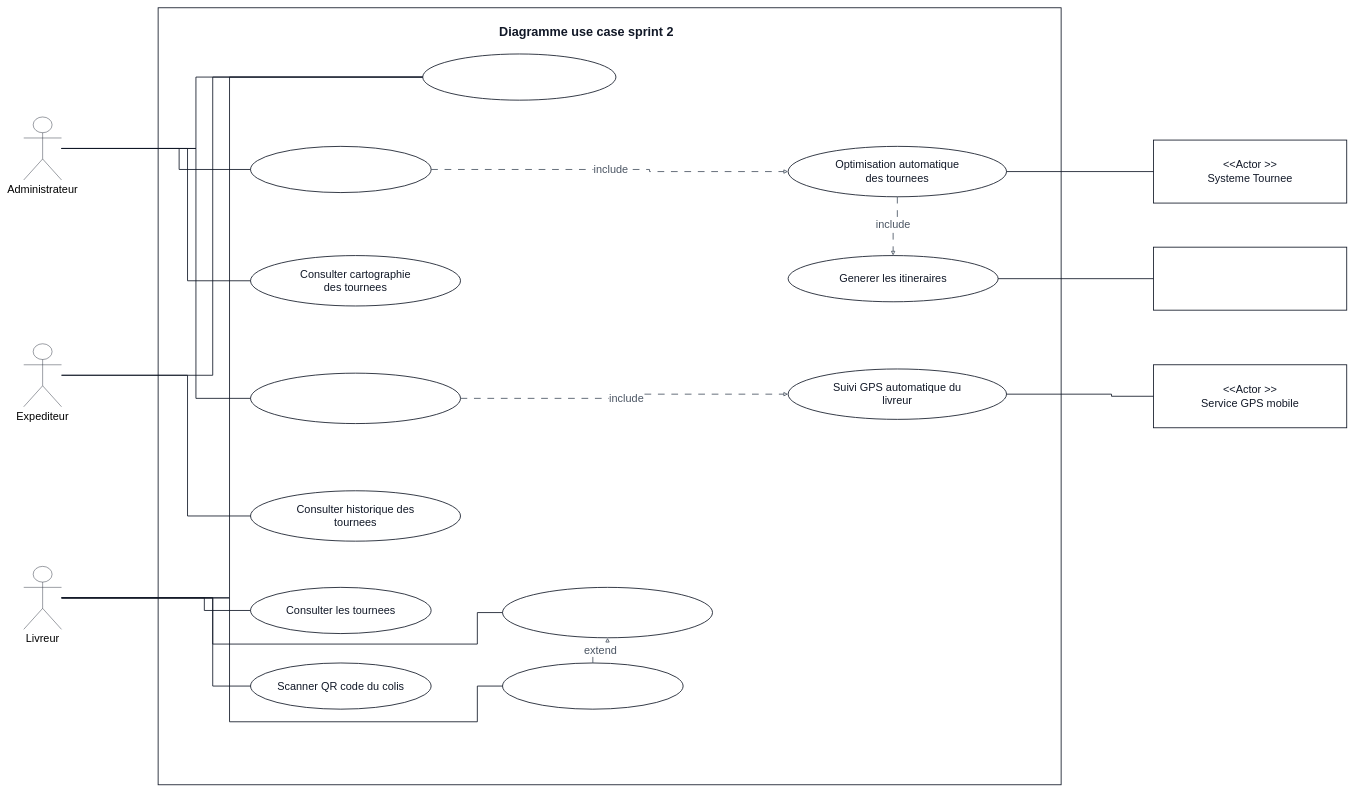
Some shapes in this 1354 by 792 pixel diagram are drawn without their labels. Here are the shapes that lost their labels. From the top down, the centre of each, then its label:
point (519, 76): Authentification
point (340, 169): Gerer tournees
point (1250, 278): <<Actor >> Service de cartographie
point (355, 398): Afficher tracking GPS du livreur
point (607, 612): Mettre a jour l'etat du colis
point (592, 685): Appeler client
